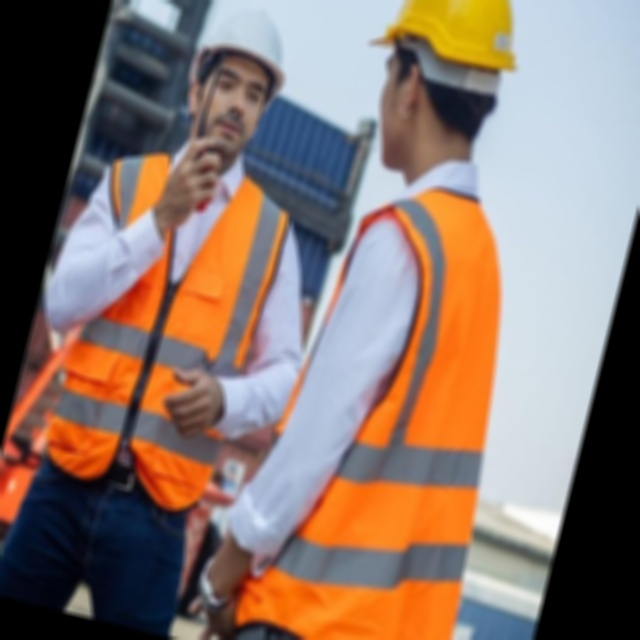Con_Casco: (344, 0, 542, 189), (172, 0, 304, 166)
Con_Chaleco: (218, 162, 552, 640), (28, 130, 296, 511)
